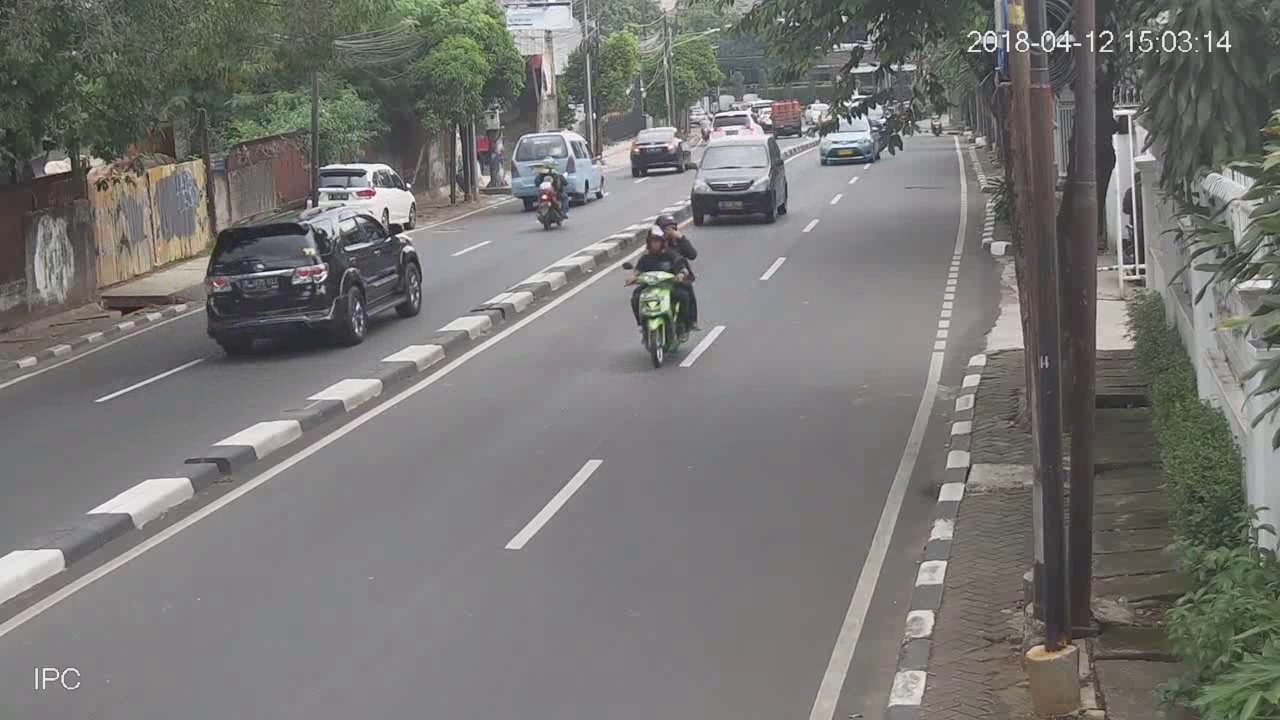car: (193, 205, 427, 353), (692, 135, 789, 226), (510, 127, 605, 208), (310, 161, 419, 231), (629, 122, 693, 175), (822, 119, 881, 164)
motorcycle: (623, 210, 704, 369), (531, 157, 573, 233)
